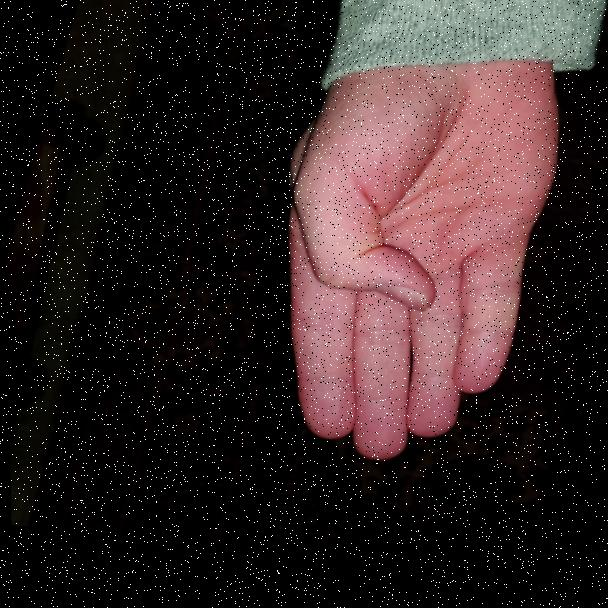four: (184, 0, 608, 545)
